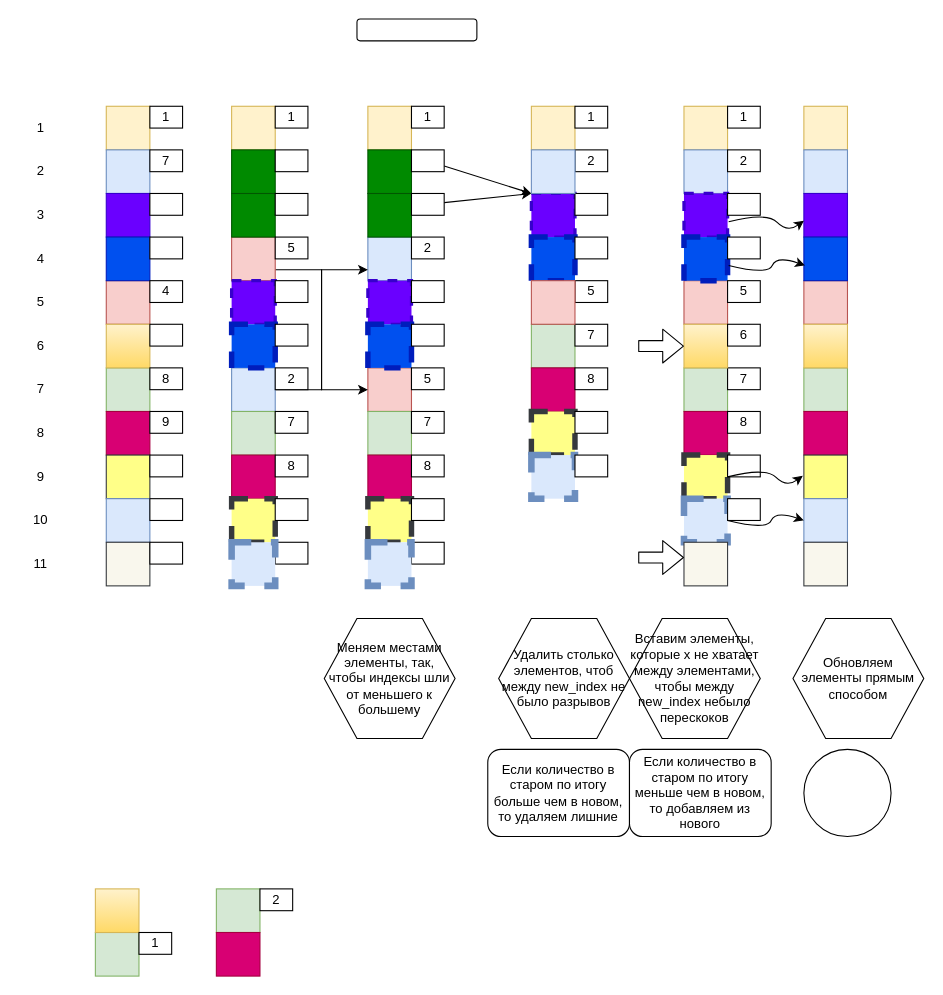
Image size: 943x995. Some labels were removed from this diagram. The box of each missing label's shape, as (x1, y1, x2, y2) in pixels:
new_index: (356, 18, 477, 41)
Получились столбцы равной высоты: (803, 748, 891, 837)
